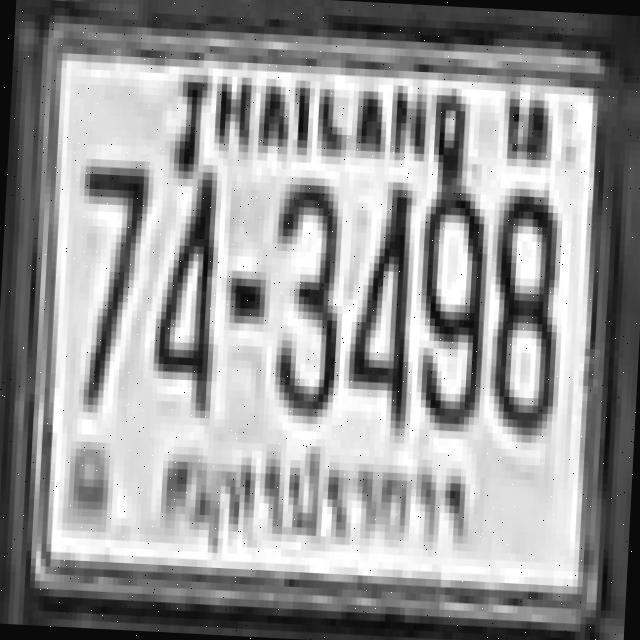3: (267, 176, 342, 410)
4: (147, 163, 218, 411), (344, 180, 415, 421)
7: (68, 159, 144, 407)
8: (484, 188, 560, 428)
9: (412, 184, 488, 425)
SamutPrakan: (154, 431, 476, 568)
